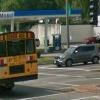Bus: (1, 27, 41, 89)
